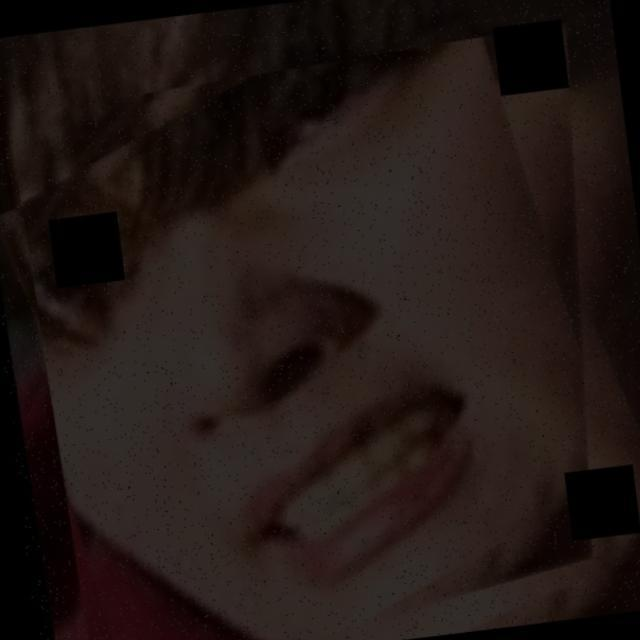Angry: (15, 16, 581, 611)
